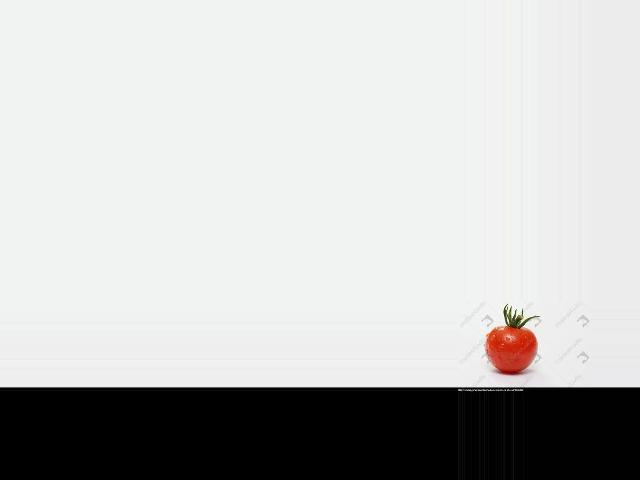tomato: (486, 327, 538, 372)
